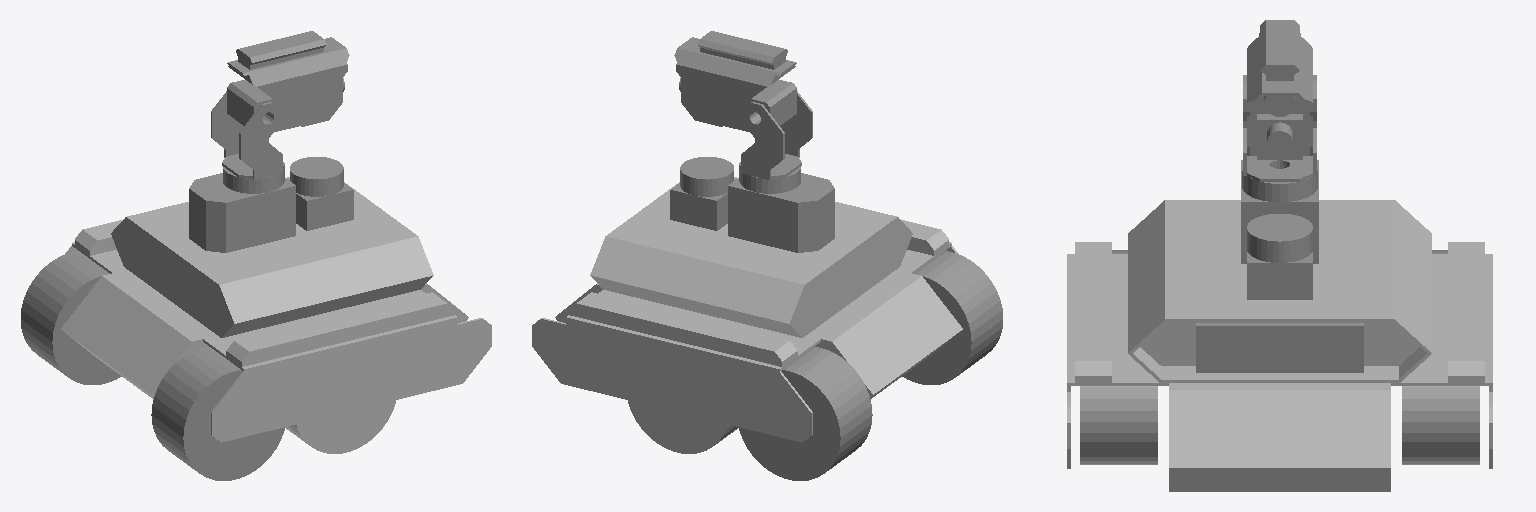
The robot description file, URDF, robot "ugv_rover":
<?xml version="1.0" ?>
<robot
  name="ugv_rover">
  <link name="base_footprint"></link>
  <link
    name="base_link">
    <inertial>
      <origin
        xyz="-0.000460087791654118 -6.50856019576702E-10 -0.0147959620149623"
        rpy="0 0 0" />
      <mass
        value="2.78375064359473" />
      <inertia
        ixx="0.00651567554169617"
        ixy="-5.86655425789789E-13"
        ixz="3.77886436056975E-05"
        iyy="0.00933991752413667"
        iyz="-2.53116742521487E-11"
        izz="0.0121583506563461" />
    </inertial>
    <visual>
      <origin
        xyz="0 0 0"
        rpy="0 0 0" />
      <geometry>
        <mesh
          filename="package://ugv_description/meshes/ugv_rover/base_link.stl" />
      </geometry>
      <material
        name="">
        <color
          rgba="0.752941176470588 0.752941176470588 0.752941176470588 1" />
      </material>
    </visual>
    <collision>
      <origin
        xyz="0 0 0"
        rpy="0 0 0" />
      <geometry>
        <mesh
          filename="package://ugv_description/meshes/ugv_rover/base_link.stl" />
      </geometry>
    </collision>
  </link>

  <joint name="base_joint" type="fixed">
    <parent link="base_footprint"/>
    <child link="base_link"/>
    <origin xyz="0.000460087791654118 6.50856019576702E-10 0.08" rpy="0 0 0"/> 
  </joint>
  
  <link name="base_imu_link"> 
      <origin xyz="0 0 0" rpy="0 0 0"/> 
  </link>
  
  <joint name="imu_joint" type="fixed">
      <parent link="base_link" />
      <child link="base_imu_link" />
      <origin xyz="0 0 0" rpy="0 0 0"/>
  </joint>

  <link
    name="left_up_wheel_link">
    <inertial>
      <origin
        xyz="1.38777878078145E-17 1.38777878078145E-17 0"
        rpy="1.5708 0 0" />
      <mass
        value="0.207085933743005" />
      <inertia
        ixx="0.000116541923504163"
        ixy="-1.59309191113245E-55"
        ixz="-3.43238458333891E-37"
        iyy="0.000170742352371108"
        iyz="-3.6165187302327E-37"
        izz="0.000116541923504163" />
    </inertial>
    <visual>
      <origin
        xyz="0 0 0"
        rpy="1.5708 0 0" />
      <geometry>
        <mesh
          filename="package://ugv_description/meshes/ugv_rover/left_up_wheel_link.stl" />
      </geometry>
      <material
        name="">
        <color
          rgba="0.627450980392157 0.627450980392157 0.627450980392157 1" />
      </material>
    </visual>
    <collision>
      <origin
        xyz="0 0 0"
        rpy="1.5708 0 0" />
      <geometry>
        <mesh
          filename="package://ugv_description/meshes/ugv_rover/left_up_wheel_link.stl" />
      </geometry>
    </collision>
  </link>
  <joint
    name="left_up_wheel_link_joint"
    type="continuous">
    <origin
      xyz="0.0855 0.08726 -0.041212"
      rpy="1.5708 0 0" />
    <parent
      link="base_link" />
    <child
      link="left_up_wheel_link" />
    <axis
      xyz="0 0 -1" />
  </joint>
  <link
    name="left_down_wheel_link">
    <inertial>
      <origin
        xyz="0 1.38777878078145E-17 0"
        rpy="1.5708 0 0" />
      <mass
        value="0.207085933743005" />
      <inertia
        ixx="0.000116541923504163"
        ixy="-1.59309191113245E-55"
        ixz="-3.43238458333891E-37"
        iyy="0.000170742352371108"
        iyz="-3.6165187302327E-37"
        izz="0.000116541923504163" />
    </inertial>
    <visual>
      <origin
        xyz="0 0 0"
        rpy="1.5708 0 0" />
      <geometry>
        <mesh
          filename="package://ugv_description/meshes/ugv_rover/left_down_wheel_link.stl" />
      </geometry>
      <material
        name="">
        <color
          rgba="0.627450980392157 0.627450980392157 0.627450980392157 1" />
      </material>
    </visual>
    <collision>
      <origin
        xyz="0 0 0"
        rpy="1.5708 0 0" />
      <geometry>
        <mesh
          filename="package://ugv_description/meshes/ugv_rover/left_down_wheel_link.stl" />
      </geometry>
    </collision>
  </link>
  <joint
    name="left_down_wheel_link_joint"
    type="continuous">
    <origin
      xyz="-0.0854999999999981 0.0872599990000038 -0.0412119912691592"
      rpy="1.5708 0 0" />
    <parent
      link="base_link" />
    <child
      link="left_down_wheel_link" />
    <axis
      xyz="0 0 -1" />
  </joint>
  <link
    name="right_up_wheel_link">
    <inertial>
      <origin
        xyz="1.38777878078145E-17 -1.38777878078145E-17 0"
        rpy="1.5708 0 0" />
      <mass
        value="0.207085933743005" />
      <inertia
        ixx="0.000116541923504163"
        ixy="-1.59309191113245E-55"
        ixz="-3.43238458333891E-37"
        iyy="0.000170742352371108"
        iyz="-3.6165187302327E-37"
        izz="0.000116541923504163" />
    </inertial>
    <visual>
      <origin
        xyz="0 0 0"
        rpy="1.5708 0 0" />
      <geometry>
        <mesh
          filename="package://ugv_description/meshes/ugv_rover/right_up_wheel_link.stl" />
      </geometry>
      <material
        name="">
        <color
          rgba="0.627450980392157 0.627450980392157 0.627450980392157 1" />
      </material>
    </visual>
    <collision>
      <origin
        xyz="0 0 0"
        rpy="1.5708 0 0" />
      <geometry>
        <mesh
          filename="package://ugv_description/meshes/ugv_rover/right_up_wheel_link.stl" />
      </geometry>
    </collision>
  </link>
  <joint
    name="right_up_wheel_link_joint"
    type="continuous">
    <origin
      xyz="0.0854999999999989 -0.0872600009999962 -0.0412119912691588"
      rpy="1.5708 0 0" />
    <parent
      link="base_link" />
    <child
      link="right_up_wheel_link" />
    <axis
      xyz="0 0 -1" />
  </joint>
  <link
    name="right_down_wheel_link">
    <inertial>
      <origin
        xyz="0 -1.38777878078145E-17 0"
        rpy="1.5708 0 0" />
      <mass
        value="0.207085933743005" />
      <inertia
        ixx="0.000116541923504163"
        ixy="-1.59309191113245E-55"
        ixz="-3.43238458333891E-37"
        iyy="0.000170742352371108"
        iyz="-3.6165187302327E-37"
        izz="0.000116541923504163" />
    </inertial>
    <visual>
      <origin
        xyz="0 0 0"
        rpy="1.5708 0 0" />
      <geometry>
        <mesh
          filename="package://ugv_description/meshes/ugv_rover/right_down_wheel_link.stl" />
      </geometry>
      <material
        name="">
        <color
          rgba="0.627450980392157 0.627450980392157 0.627450980392157 1" />
      </material>
    </visual>
    <collision>
      <origin
        xyz="0 0 0"
        rpy="1.5708 0 0" />
      <geometry>
        <mesh
          filename="package://ugv_description/meshes/ugv_rover/right_down_wheel_link.stl" />
      </geometry>
    </collision>
  </link>
  <joint
    name="right_down_wheel_link_joint"
    type="continuous">
    <origin
      xyz="-0.0854999999999981 -0.0872600009999962 -0.0412119912691594"
      rpy="1.5708 0 0" />
    <parent
      link="base_link" />
    <child
      link="right_down_wheel_link" />
    <axis
      xyz="0 0 -1" />
  </joint>
  <link
    name="3d_camera_link">
    <inertial>
      <origin
        xyz="0.00849999999999999 -2.66785989545803E-18 0"
        rpy="0 0 0" />
      <mass
        value="0.043316" />
      <inertia
        ixx="3.27216283333333E-05"
        ixy="1.12259284465067E-22"
        ixz="-1.19114008207636E-22"
        iyy="3.87317233333333E-06"
        iyz="-2.37303626261453E-22"
        izz="3.09348433333333E-05" />
    </inertial>
    <visual>
      <origin
        xyz="0 0 0"
        rpy="0 0 0" />
      <geometry>
        <mesh
          filename="package://ugv_description/meshes/ugv_rover/3d_camera_link.stl" />
      </geometry>
      <material
        name="">
        <color
          rgba="0.627450980392157 0.627450980392157 0.627450980392157 1" />
      </material>
    </visual>
    <collision>
      <origin
        xyz="0 0 0"
        rpy="0 0 0" />
      <geometry>
        <mesh
          filename="package://ugv_description/meshes/ugv_rover/3d_camera_link.stl" />
      </geometry>
    </collision>
  </link>

  <joint
    name="3d_camera_link_joint"
    type="fixed">
    <origin
      xyz="0.06531 0 0.021953"
      rpy="0 0 0" />
    <parent
      link="base_link" />
    <child
      link="3d_camera_link" />
    <axis
      xyz="0 0 0" />
  </joint>
  
  <link
    name="base_lidar_link">
    <inertial>
      <origin
        xyz="-6.93889390390723E-18 -1.81372359302323E-18 0.0165546434494574"
        rpy="0 0 0" />
      <mass
        value="0.0418000091653573" />
      <inertia
        ixx="8.26853377699878E-06"
        ixy="-2.32283058129169E-22"
        ixz="-3.51417304718746E-22"
        iyy="8.26853377699876E-06"
        iyz="2.66754484573224E-23"
        izz="8.32524607487378E-06" />
    </inertial>
    <visual>
      <origin
        xyz="0 0 0"
        rpy="0 0 0" />
      <geometry>
        <mesh
          filename="package://ugv_description/meshes/ugv_rover/base_lidar_link.stl" />
      </geometry>
      <material
        name="">
        <color
          rgba="0.627450980392157 0.627450980392157 0.627450980392157 1" />
      </material>
    </visual>
    <collision>
      <origin
        xyz="0 0 0"
        rpy="0 0 0" />
      <geometry>
        <mesh
          filename="package://ugv_description/meshes/ugv_rover/base_lidar_link.stl" />
      </geometry>
    </collision>
  </link>
  <joint
    name="base_lidar_link_joint"
    type="fixed">
    <origin
      xyz="0.0398145505519817 0 0.04"
      rpy="0 0 1.5708" />
    <parent
      link="base_link" />
    <child
      link="base_lidar_link" />
    <axis
      xyz="0 0 0" />
  </joint>
  <link
    name="pt_base_link">
    <inertial>
      <origin
        xyz="0.00127554206615719 2.80272572267171E-15 0.0215158687368638"
        rpy="0 0 0" />
      <mass
        value="0.109518186442022" />
      <inertia
        ixx="3.30168147078049E-05"
        ixy="-2.724587071518E-18"
        ixz="-2.93137934608679E-06"
        iyy="5.1580984319637E-05"
        iyz="-6.32568066032632E-18"
        izz="4.86101329827052E-05" />
    </inertial>
    <visual>
      <origin
        xyz="0 0 0"
        rpy="0 0 0" />
      <geometry>
        <mesh
          filename="package://ugv_description/meshes/ugv_rover/pt_base_link.stl" />
      </geometry>
      <material
        name="">
        <color
          rgba="0.627450980392157 0.627450980392157 0.627450980392157 1" />
      </material>
    </visual>
    <collision>
      <origin
        xyz="0 0 0"
        rpy="0 0 0" />
      <geometry>
        <mesh
          filename="package://ugv_description/meshes/ugv_rover/pt_base_link.stl" />
      </geometry>
    </collision>
  </link>
  <joint
    name="pt_base_link_joint"
    type="fixed">
    <origin
      xyz="-0.018892 0 0.04"
      rpy="0 0 0" />
    <parent
      link="base_link" />
    <child
      link="pt_base_link" />
    <axis
      xyz="0 0 0" />
  </joint>
  <link
    name="pt_link1">
    <inertial>
      <origin
        xyz="-0.00338129216527271 1.0094878463484E-15 0.0176096758355074"
        rpy="0 0 0" />
      <mass
        value="0.00710917409663916" />
      <inertia
        ixx="3.89716322571471E-06"
        ixy="-3.20607036006508E-19"
        ixz="2.32919366130509E-07"
        iyy="2.4980668051168E-06"
        iyz="-2.87650001968868E-19"
        izz="2.60402792588347E-06" />
    </inertial>
    <visual>
      <origin
        xyz="0 0 0"
        rpy="0 0 0" />
      <geometry>
        <mesh
          filename="package://ugv_description/meshes/ugv_rover/pt_link1.stl" />
      </geometry>
      <material
        name="">
        <color
          rgba="0.627450980392157 0.627450980392157 0.627450980392157 1" />
      </material>
    </visual>
    <collision>
      <origin
        xyz="0 0 0"
        rpy="0 0 0" />
      <geometry>
        <mesh
          filename="package://ugv_description/meshes/ugv_rover/pt_link1.stl" />
      </geometry>
    </collision>
  </link>
  <joint
    name="pt_base_link_to_pt_link1"
    type="revolute">
    <origin
      xyz="0.010151 0 0.048"
      rpy="0 0 0" />
    <parent
      link="pt_base_link" />
    <child
      link="pt_link1" />
    <axis
      xyz="0 0 -1" />
    <limit
      lower="-3.14"
      upper="3.14"
      effort="0"
      velocity="0" />
  </joint>
  <link
    name="pt_link2">
    <inertial>
      <origin
        xyz="0.0218201278828439 0.0119590002643801 0.020000000000001"
        rpy="0 0 0" />
      <mass
        value="0.0970496053012515" />
      <inertia
        ixx="3.07158301509253E-05"
        ixy="-9.60865010663691E-07"
        ixz="-1.08689847044801E-19"
        iyy="3.74067734460566E-05"
        iyz="-1.7579899274055E-18"
        izz="4.94991610517831E-05" />
    </inertial>
    <visual>
      <origin
        xyz="0 0 0"
        rpy="0 0 0" />
      <geometry>
        <mesh
          filename="package://ugv_description/meshes/ugv_rover/pt_link2.stl" />
      </geometry>
      <material
        name="">
        <color
          rgba="0.627450980392157 0.627450980392157 0.627450980392157 1" />
      </material>
    </visual>
    <collision>
      <origin
        xyz="0 0 0"
        rpy="0 0 0" />
      <geometry>
        <mesh
          filename="package://ugv_description/meshes/ugv_rover/pt_link2.stl" />
      </geometry>
    </collision>
  </link>
  <joint
    name="pt_link1_to_pt_link2"
    type="revolute">
    <origin
      xyz="0 0.02 0.043003"
      rpy="1.5708 0 0" />
    <parent
      link="pt_link1" />
    <child
      link="pt_link2" />
    <axis
      xyz="0 0 1" />
    <limit
      lower="-0.5233333"
      upper="1.5707963"
      effort="0"
      velocity="0" />
  </joint>
  <link
    name="pt_camera_link">
    <inertial>
      <origin
        xyz="0.00630730338217479 -7.90865732935165E-18 0.000950308188413934"
        rpy="0 -1.5708 1.5708" />
      <mass
        value="0.00623651844028495" />
      <inertia
        ixx="5.11295942352593E-07"
        ixy="3.46495200123478E-22"
        ixz="-4.00917493406375E-08"
        iyy="3.99078324787848E-07"
        iyz="1.31404415819798E-22"
        izz="4.02518684222241E-07" />
    </inertial>
    <visual>
      <origin
        xyz="0 0 0"
        rpy="0 -1.5708 1.5708" />
      <geometry>
        <mesh
          filename="package://ugv_description/meshes/ugv_rover/pt_camera_link.stl" />
      </geometry>
      <material
        name="">
        <color
          rgba="0.627450980392157 0.627450980392157 0.627450980392157 1" />
      </material>
    </visual>
    <collision>
      <origin
        xyz="0 0 0"
        rpy="0 -1.5708 1.5708" />
      <geometry>
        <mesh
          filename="package://ugv_description/meshes/ugv_rover/pt_camera_link.stl" />
      </geometry>
    </collision>
  </link>
  <joint
    name="pt_link2_to_pt_camera_link"
    type="fixed">
    <origin
      xyz="0.047686 -0.000569 0.02"
      rpy="3.14 -1.5708 0" />
    <parent
      link="pt_link2" />
    <child
      link="pt_camera_link" />
    <axis
      xyz="0 0 0" />
  </joint>
  
</robot>

--- Render facts (derived) ---
3 views of the same robot in one strip: view 1: azimuth 30°, elevation 25°; view 2: azimuth 150°, elevation 25°; view 3: azimuth 270°, elevation 25° (orthographic).
Model ugv_rover with 13 links and 12 joints (2 revolute, 4 continuous, 6 fixed), rooted at base_footprint, posed all joints at 0.
Links seen in each view (by area): view 1: base_link, right_down_wheel_link, pt_link2, pt_base_link, left_down_wheel_link, pt_link1, base_lidar_link; view 2: base_link, left_down_wheel_link, pt_link2, pt_base_link, right_down_wheel_link, pt_link1, base_lidar_link; view 3: base_link, 3d_camera_link, pt_link2, base_lidar_link, pt_base_link, pt_link1, pt_camera_link.
Link boxes in pixels (bbox=[...]): base_link: bbox=[61, 177, 491, 453]; right_down_wheel_link: bbox=[151, 347, 284, 480]; pt_link2: bbox=[227, 31, 349, 131]; pt_base_link: bbox=[189, 164, 295, 252]; left_down_wheel_link: bbox=[21, 251, 121, 384]; pt_link1: bbox=[211, 91, 284, 179]; base_lidar_link: bbox=[288, 157, 353, 230]; base_link: bbox=[532, 177, 962, 453]; left_down_wheel_link: bbox=[739, 347, 872, 480]; pt_link2: bbox=[674, 31, 796, 131]; pt_base_link: bbox=[728, 164, 834, 252]; right_down_wheel_link: bbox=[902, 251, 1002, 384]; pt_link1: bbox=[739, 91, 812, 179]; base_lidar_link: bbox=[670, 157, 735, 230]; base_link: bbox=[1067, 200, 1492, 491]; 3d_camera_link: bbox=[1196, 323, 1363, 372]; pt_link2: bbox=[1247, 20, 1312, 155]; base_lidar_link: bbox=[1247, 214, 1312, 299]; pt_base_link: bbox=[1241, 160, 1318, 263]; pt_link1: bbox=[1243, 75, 1316, 181]; pt_camera_link: bbox=[1257, 114, 1302, 159].
Size in the robot's own frame: 0.2481 by 0.2304 by 0.2536 metres.
Meshes: 11 distinct files referenced, 9 mesh visuals loaded (9 binary STL); not drawn: 2 (reference not matched to a file when rendering).